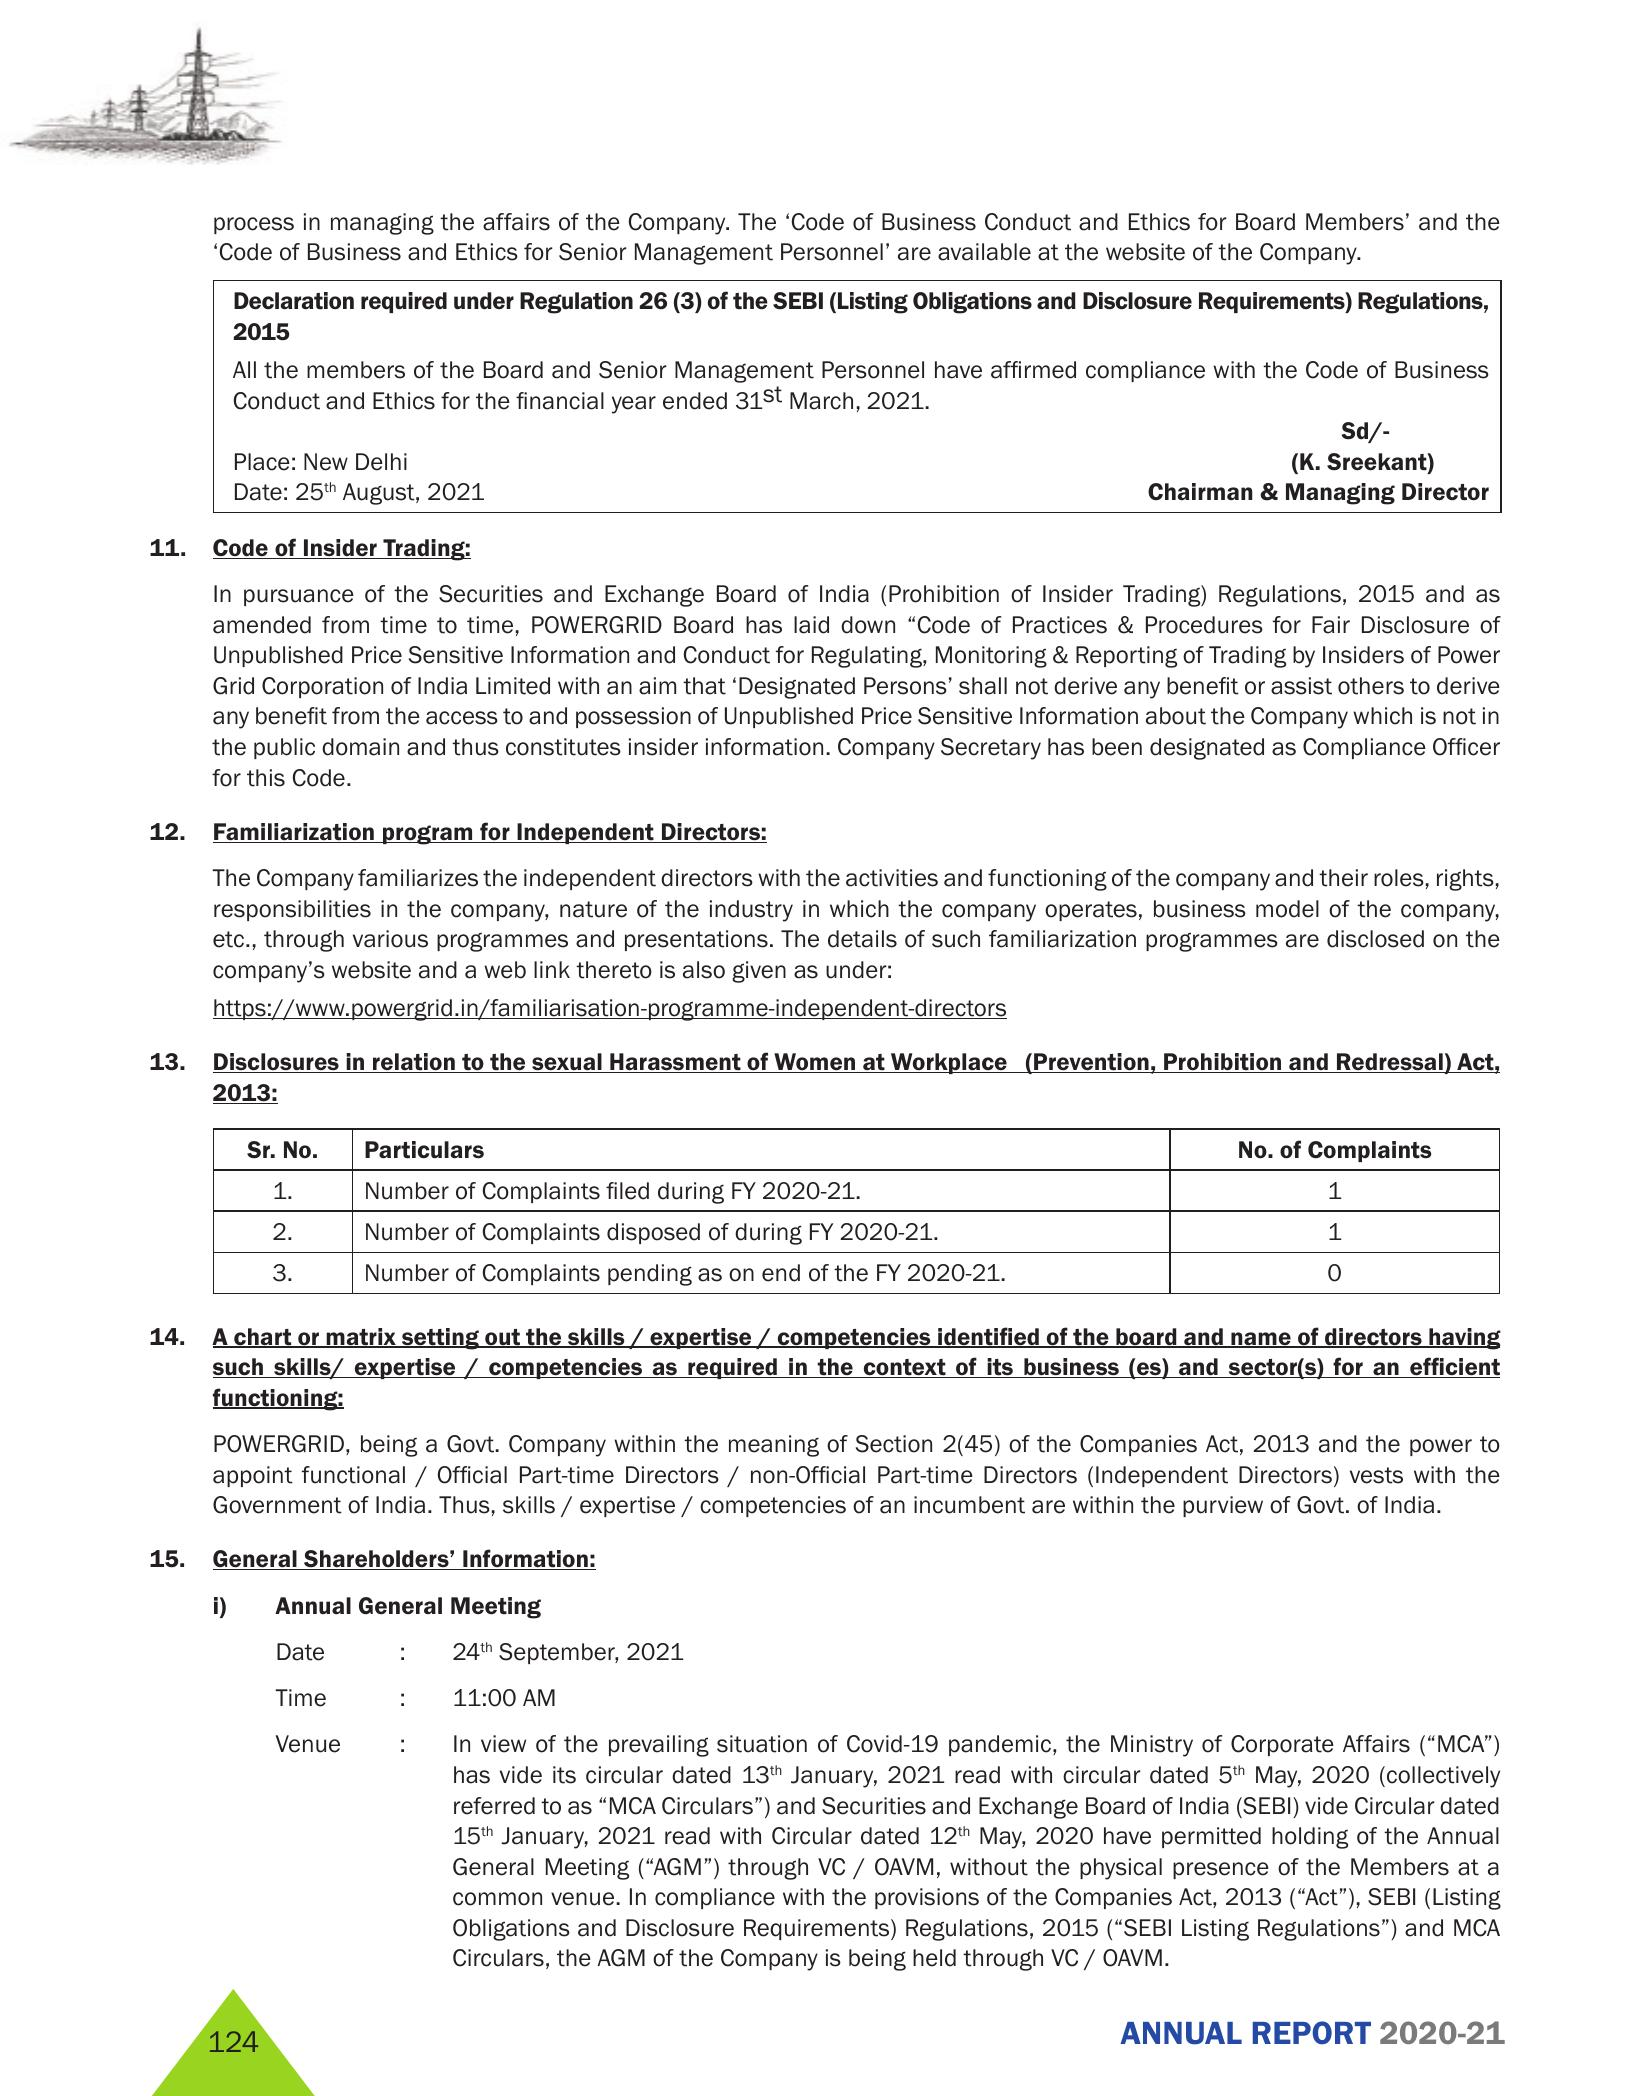Footer: (0, 1979, 1650, 2096)
Header: (0, 0, 1650, 175)
Table: (175, 1128, 1556, 1320)
